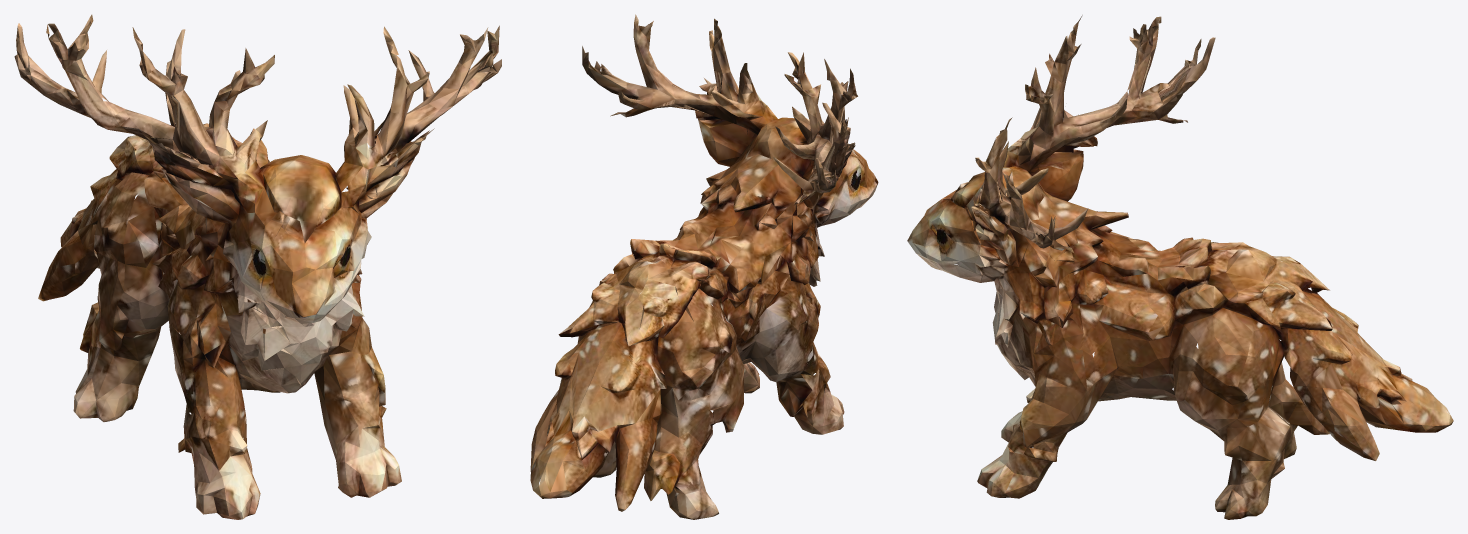
File: sylvorn_evo_lo.glb
3 renders of one model, left to right at view 1: azimuth 30°, elevation 25°; view 2: azimuth 150°, elevation 25°; view 3: azimuth 270°, elevation 25°, orthographic. The views are drawn at different scales.
Visible parts, largest first — view 1: plush; view 2: plush; view 3: plush.
Boxes of the visible parts, bbox=[...] form: plush: bbox=[14, 14, 501, 519]; plush: bbox=[530, 14, 878, 519]; plush: bbox=[907, 15, 1453, 519].
Size of the model in its own units: 0.6948 by 0.8119 by 0.9796.
Materials: 1 (1 with a texture image).
